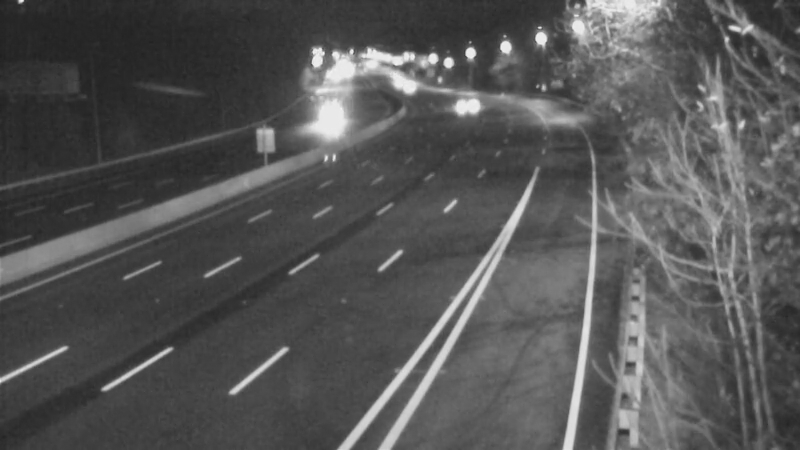vehicle: (385, 62, 435, 112), (440, 78, 490, 128), (304, 93, 354, 143)
